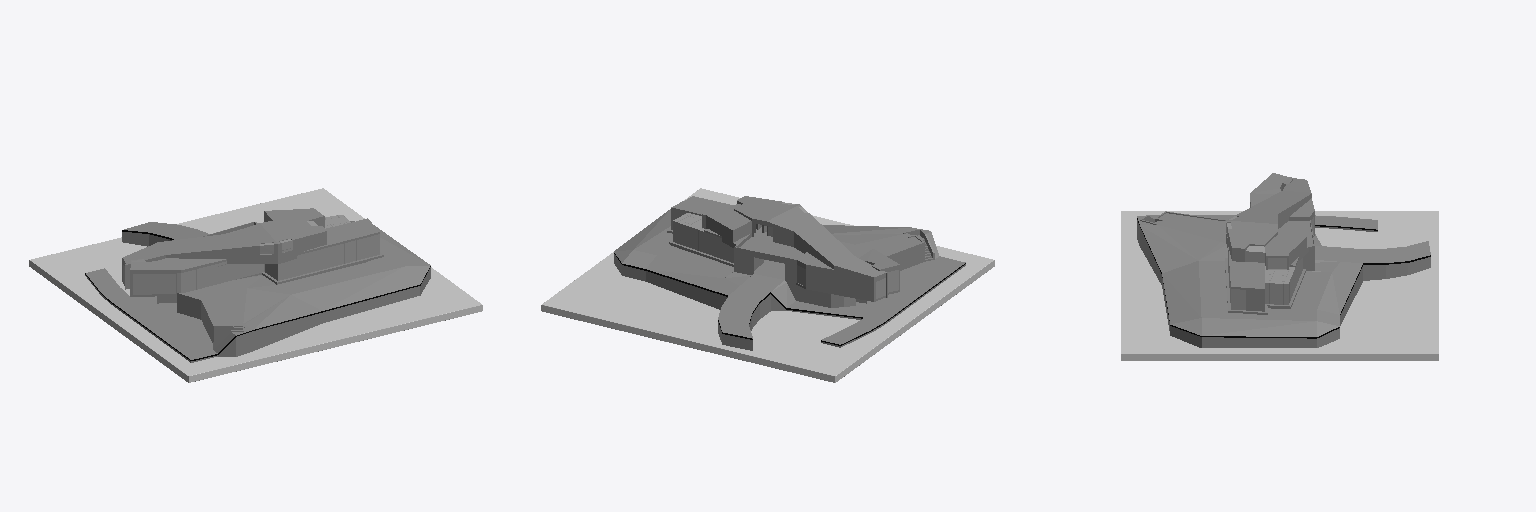
The model's file is Map_House.obj.
3 views of the same model, side by side, from view 1: azimuth 30°, elevation 25°; view 2: azimuth 150°, elevation 25°; view 3: azimuth 270°, elevation 25° (orthographic).
Visible parts, largest first — view 1: BATI, SOCLE, VITRES, COUPE_TERRAIN; view 2: BATI, SOCLE, COUPE_TERRAIN, VITRES; view 3: BATI, SOCLE, COUPE_TERRAIN, VITRES.
Part boxes in pixels (x1,y1,x2,y2): BATI: (86, 208, 430, 359); SOCLE: (29, 188, 482, 382); VITRES: (123, 215, 379, 294); COUPE_TERRAIN: (85, 230, 430, 362); BATI: (614, 196, 965, 344); SOCLE: (541, 188, 994, 382); COUPE_TERRAIN: (614, 253, 965, 350); VITRES: (673, 202, 898, 306); BATI: (1137, 173, 1430, 336); SOCLE: (1121, 211, 1438, 360); COUPE_TERRAIN: (1137, 218, 1430, 347); VITRES: (1227, 204, 1313, 309).
Bounding box in the file's own units: 1797 × 387 × 1686.